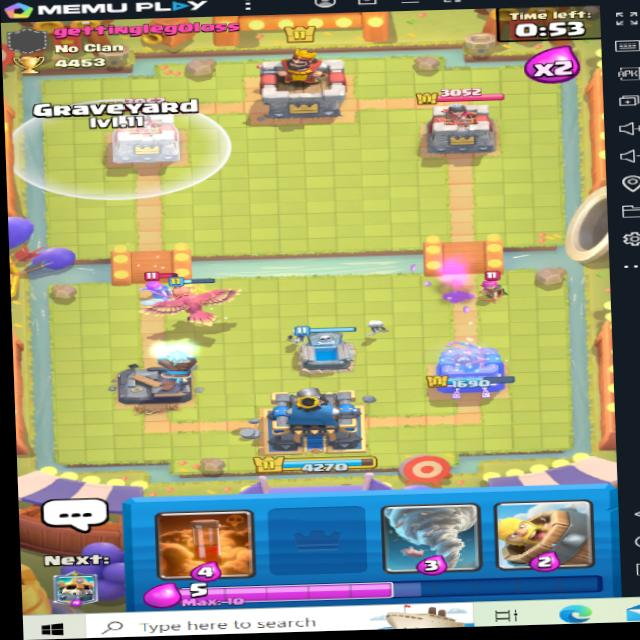archer: (467, 273, 521, 312), (143, 272, 176, 298)
